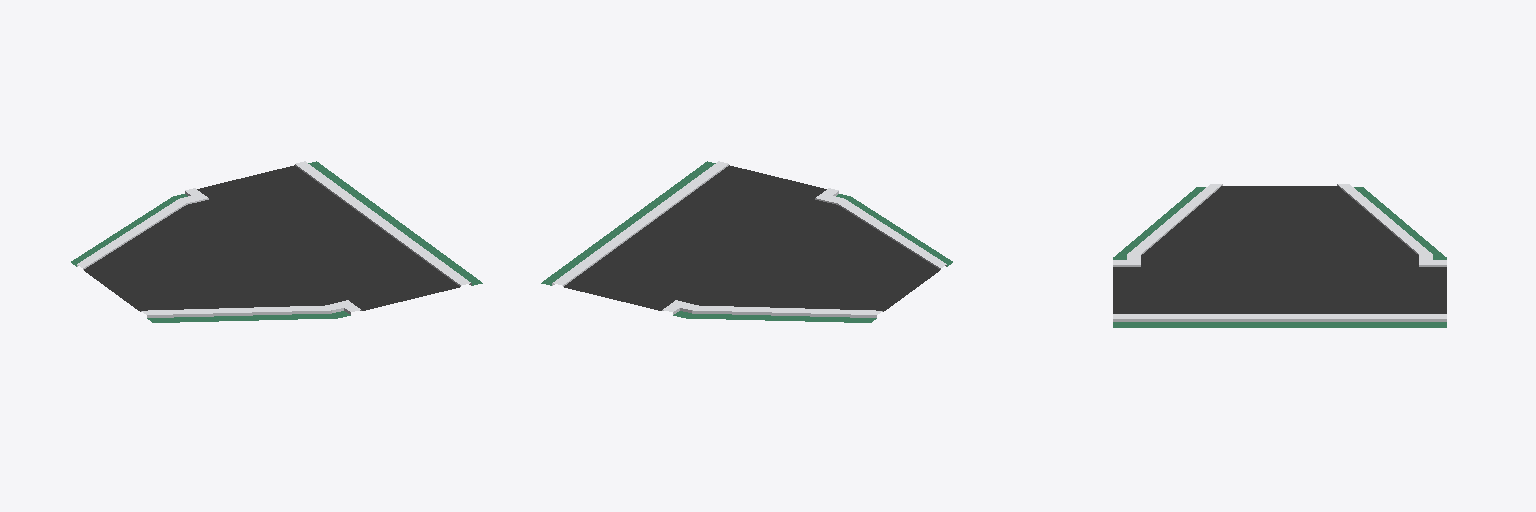
File: roadSide.obj
The picture shows the model from 3 angles: view 1: azimuth 30°, elevation 25°; view 2: azimuth 150°, elevation 25°; view 3: azimuth 270°, elevation 25°; orthographic projection.
Visible parts, largest first — view 1: roadSide; view 2: roadSide; view 3: roadSide.
Boxes of the visible parts, <box> form: roadSide: <box>71,161,482,322</box>; roadSide: <box>541,161,952,322</box>; roadSide: <box>1113,184,1446,327</box>.
Size of the model in its own units: 2 by 0.02 by 2.